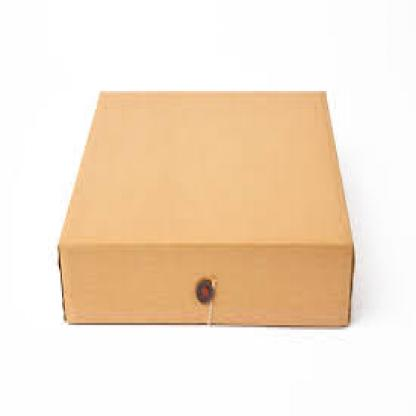CARDBOARD: (56, 89, 354, 327)
